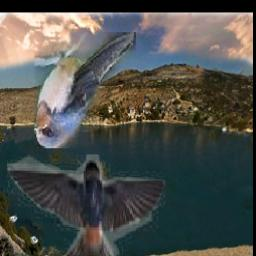Swallow: (2, 154, 165, 256), (35, 32, 137, 148)
